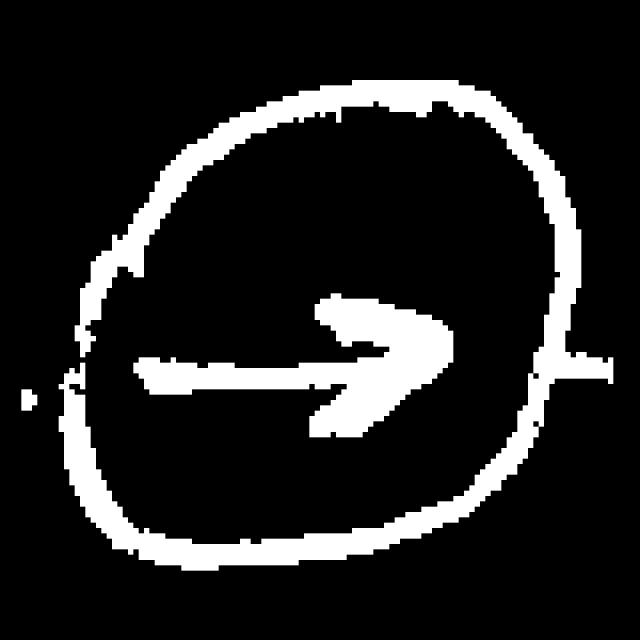current_source: (43, 63, 592, 582)
